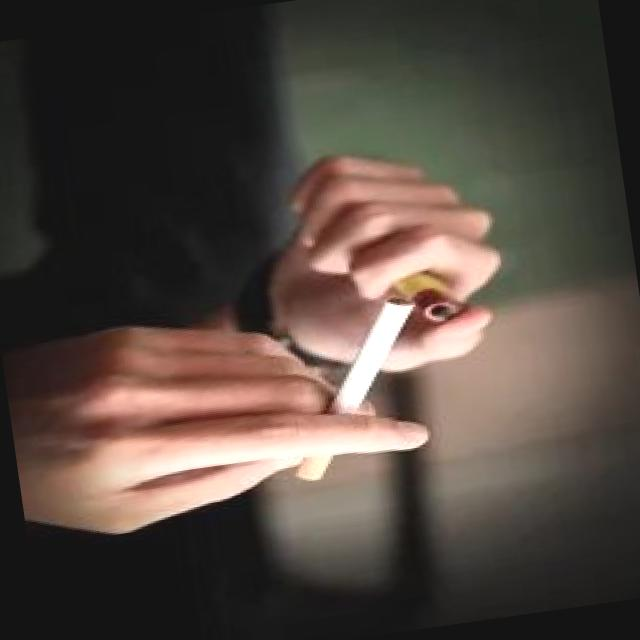cigarette: (267, 290, 444, 486)
